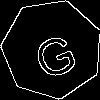G: (26, 24, 81, 82)
